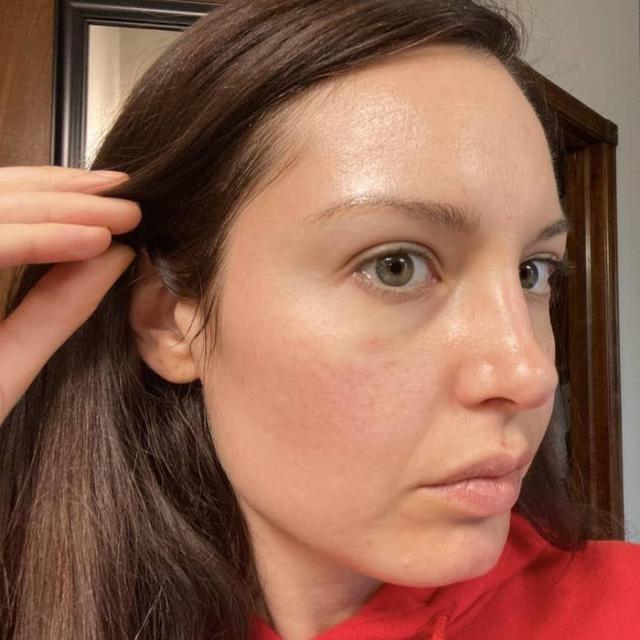Oily-Skin: (298, 89, 603, 556), (278, 152, 448, 484), (293, 381, 446, 446), (410, 106, 572, 163)
